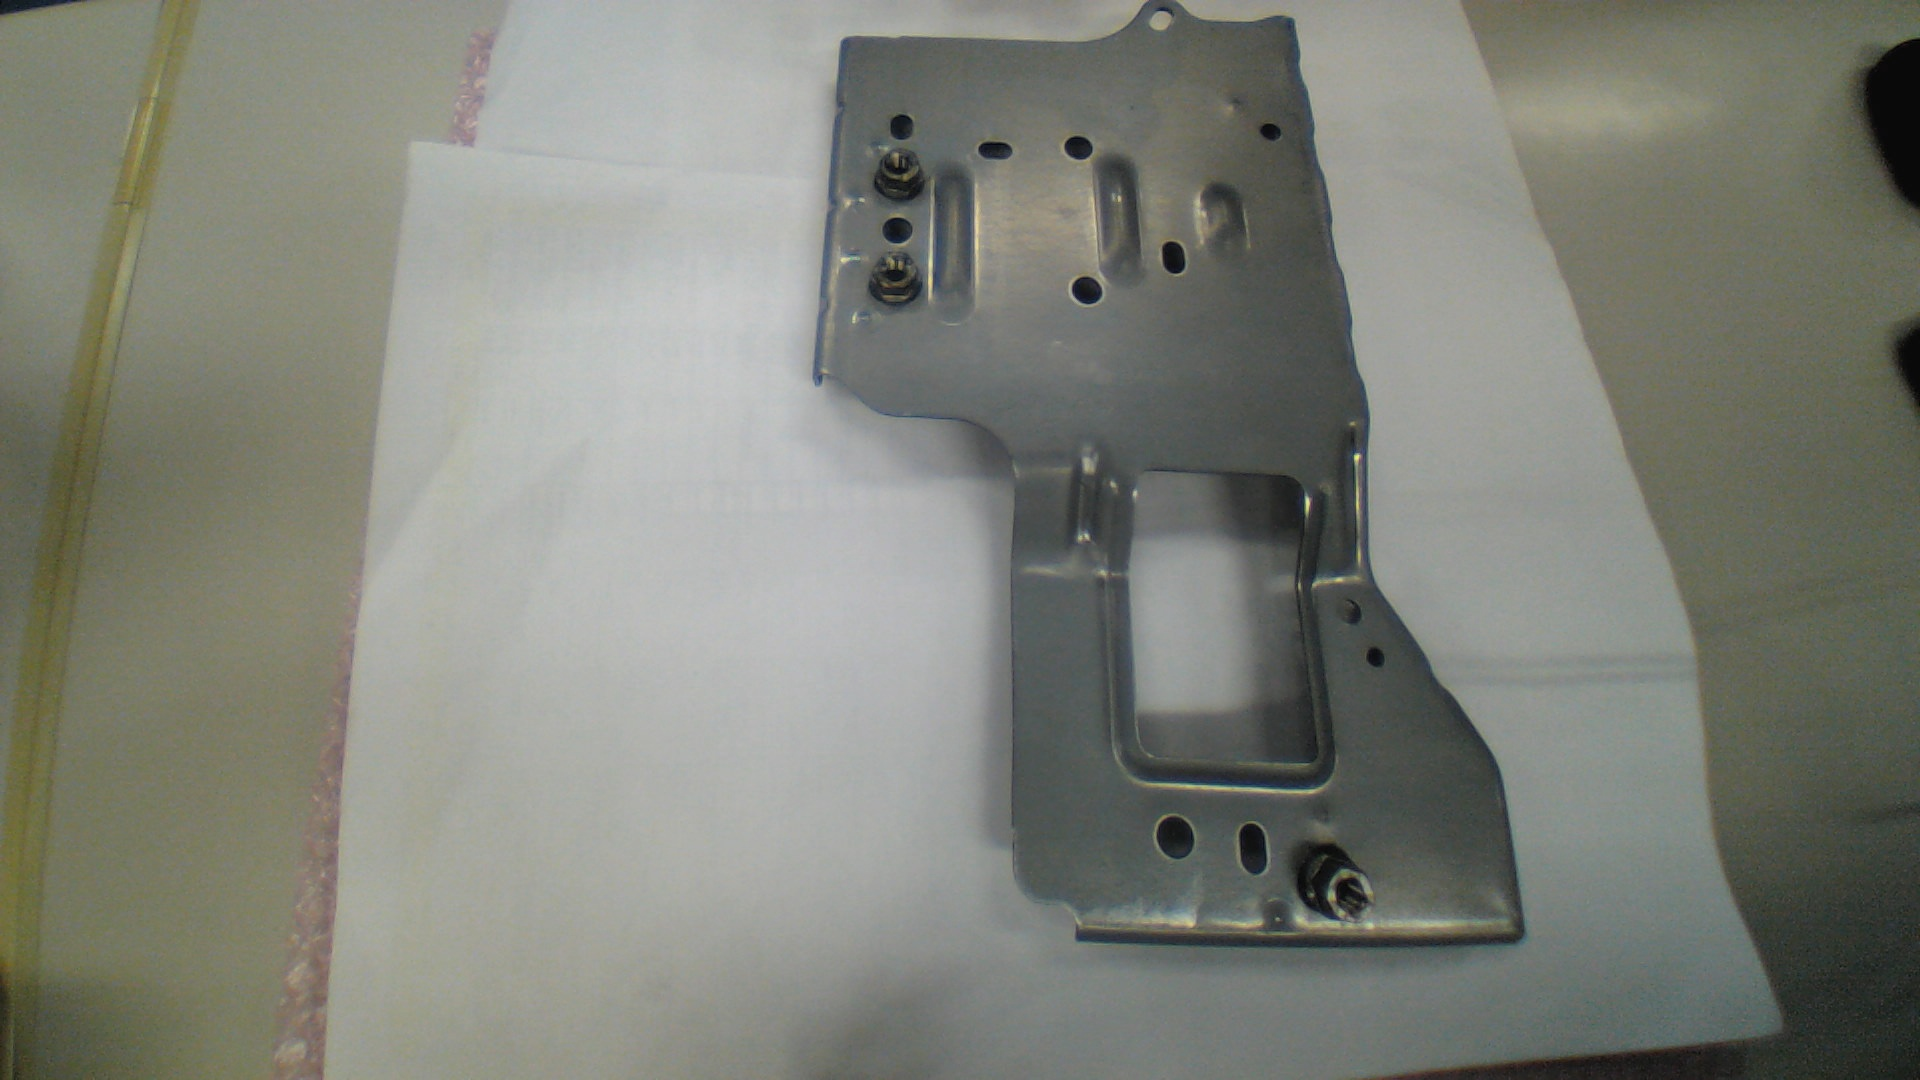dog: (1299, 840, 1374, 924), (870, 251, 924, 302), (873, 146, 923, 202)
